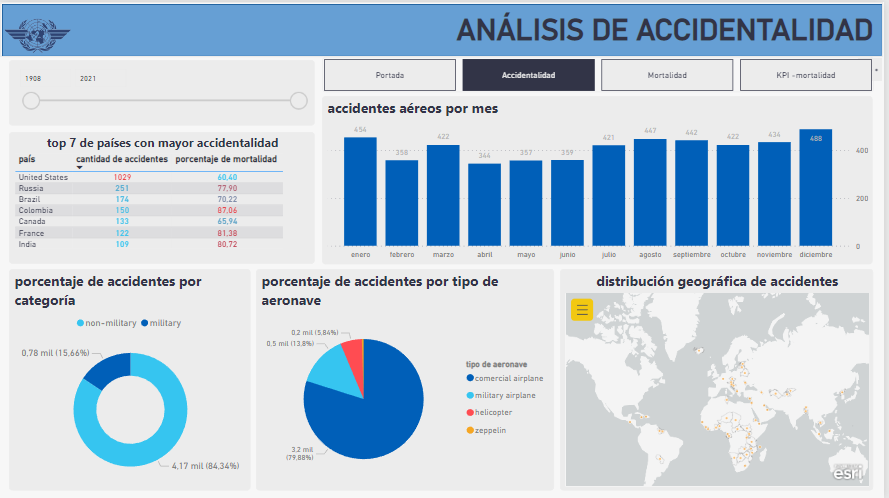

The page's visual inventory and layout, read from the dashboard file:
{"tool":"powerbi","page":{"name":"Accidentalidad","canvas":[1280,720],"ordinal":1},"visuals":[{"type":"columnChart","title":"accidentes aéreos por mes","fields":{"Y":["CountNonNull(fac_incidentes_aviacion.id_incident)"],"Category":["calendar.Fecha.Variación.Jerarquía de fechas.Año","calendar.Fecha.Variación.Jerarquía de fechas.Trimestre","calendar.Fecha.Variación.Jerarquía de fechas.Mes","calendar.Fecha.Variación.Jerarquía de fechas.Día"]},"box":[466.7,135.7,798.4,244.4],"z":0},{"type":"pieChart","title":"porcentaje de accidentes por tipo de aeronave","fields":{"Category":["dim_type_aircraft.type_aircraft"],"Y":["measures_model.average_type_aircraft"]},"box":[371,387.3,432.4,321.1],"z":1000},{"type":"slicer","fields":{"Values":["calendar.Year"]},"box":[13.2,84.2,443.4,94.7],"z":2000},{"type":"esriVisual","title":"distribución geográfica de accidentes","fields":{"Location":["fac_incidentes_aviacion.country"],"Size":["CountNonNull(fac_incidentes_aviacion.id_incident)"]},"box":[811.3,387.3,453.5,321.1],"z":3000},{"type":"shape","box":[0,0,1279.7,79.7],"z":4000},{"type":"image","box":[0,1.4,108.7,92.8],"z":5000},{"type":"pageNavigator","box":[466.7,79.7,800,50.7],"z":6000},{"type":"donutChart","fields":{"Category":["dim_category.category"],"Y":["CountNonNull(fac_incidentes_aviacion.id_incident)"]},"box":[13.2,386.8,350,321.1],"z":6001},{"type":"tableEx","title":"top 7 de países con mayor accidentalidad ","fields":{"Values":["fac_incidentes_aviacion.country","fac_incidentes_aviacion.id_incident","measures_model.average_mortality"]},"box":[13,189,443,191],"z":6002},{"type":"textbox","box":[546.1,10.5,734.2,68.4],"z":6003}]}

Visuals, with their boxes in screenshot pixels (x1, y1, x2, y2), scaled from the page's 1280x720 canvas onto the 889x498 screenshot:
"accidentes aéreos por mes" columnChart: (324, 94, 879, 263)
"porcentaje de accidentes por tipo de aeronave" pieChart: (258, 268, 558, 490)
slicer - calendar.Year: (9, 58, 317, 124)
"distribución geográfica de accidentes" esriVisual: (563, 268, 878, 490)
shape: (0, 0, 888, 55)
image: (0, 1, 75, 65)
pageNavigator: (324, 55, 880, 90)
donutChart - dim_category.category x CountNonNull(fac_incidentes_aviacion.id_incident): (9, 268, 252, 490)
"top 7 de países con mayor accidentalidad " tableEx: (9, 131, 317, 263)
textbox: (379, 7, 888, 55)
